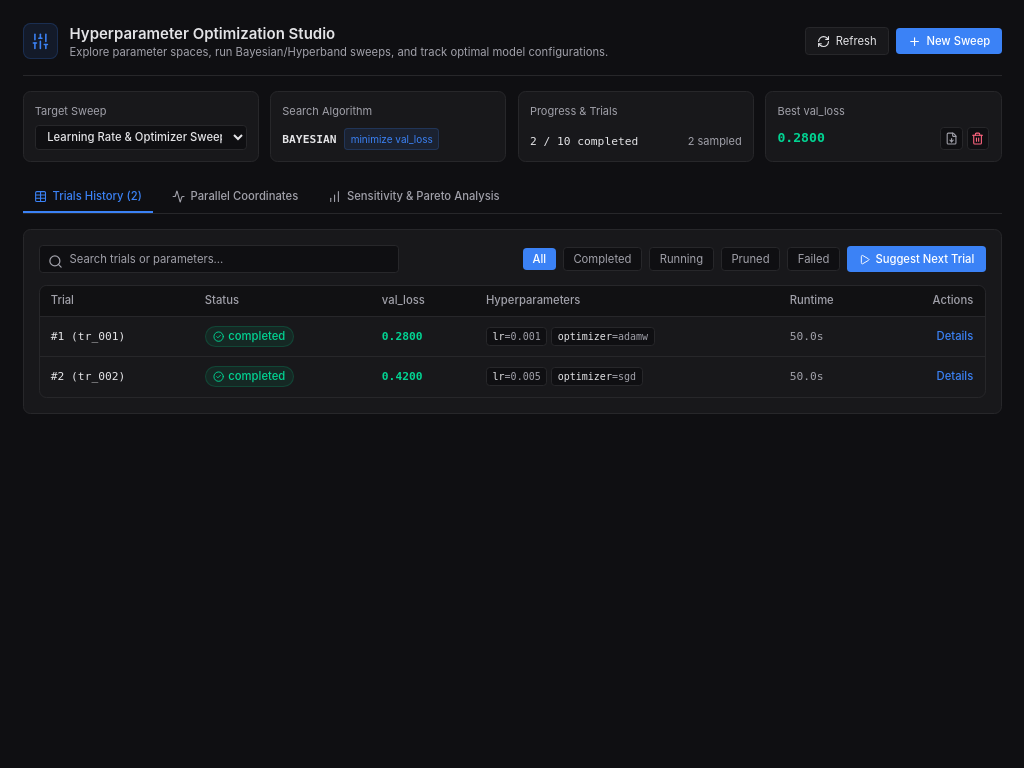
Test: SweepStudio Component › switches to Sensitivity & Pareto Analysis tab
The image size is (1024, 768).
Click the button "Sensitivity & Pareto Analysis" at {"x": 414, "y": 197}, box 317,181 -> 511,213
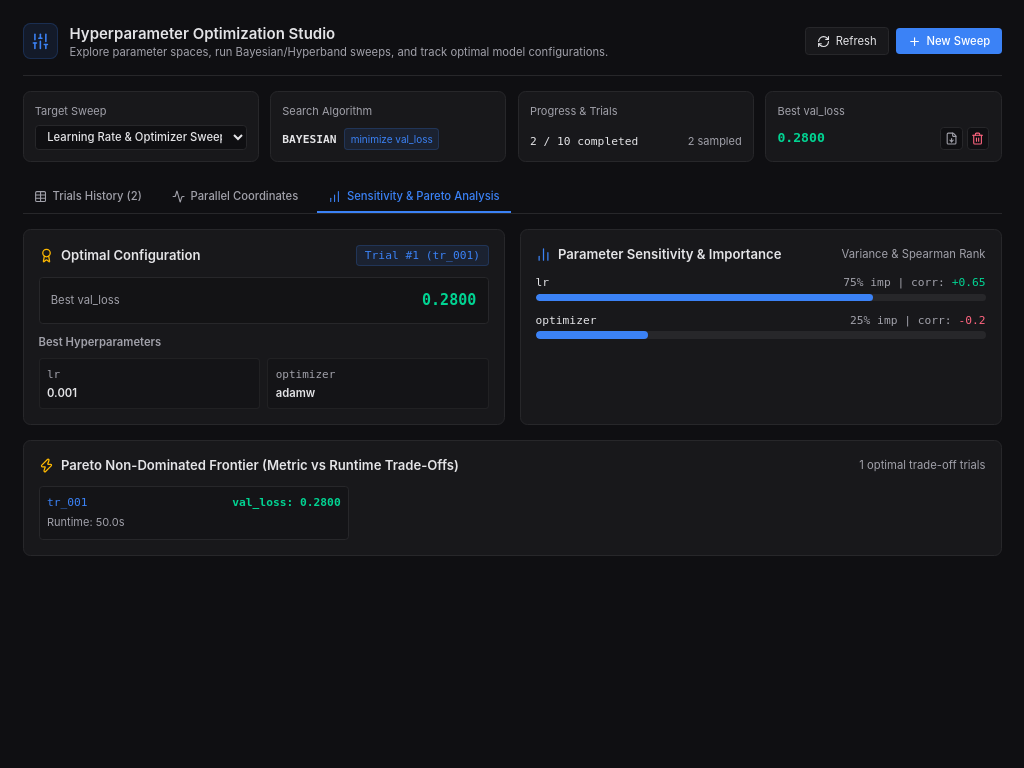
Expected: the heading "Optimal Configuration" is shown, 38,246 -> 200,265
Expected: the heading "Parameter Sensitivity & Importance" is shown, 536,245 -> 782,264
Expected: the heading "Pareto Non-Dominated Frontier (Metric vs Runtime Trade-Offs)" is shown, 38,456 -> 459,475
